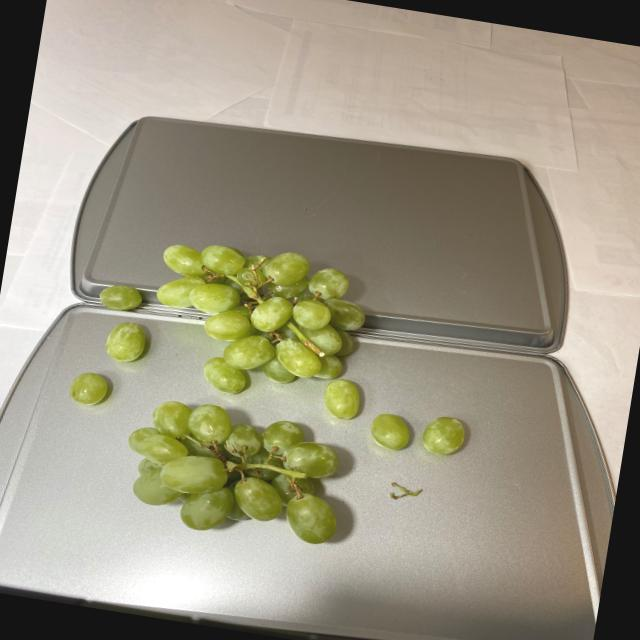grapes: (54, 223, 492, 572)
